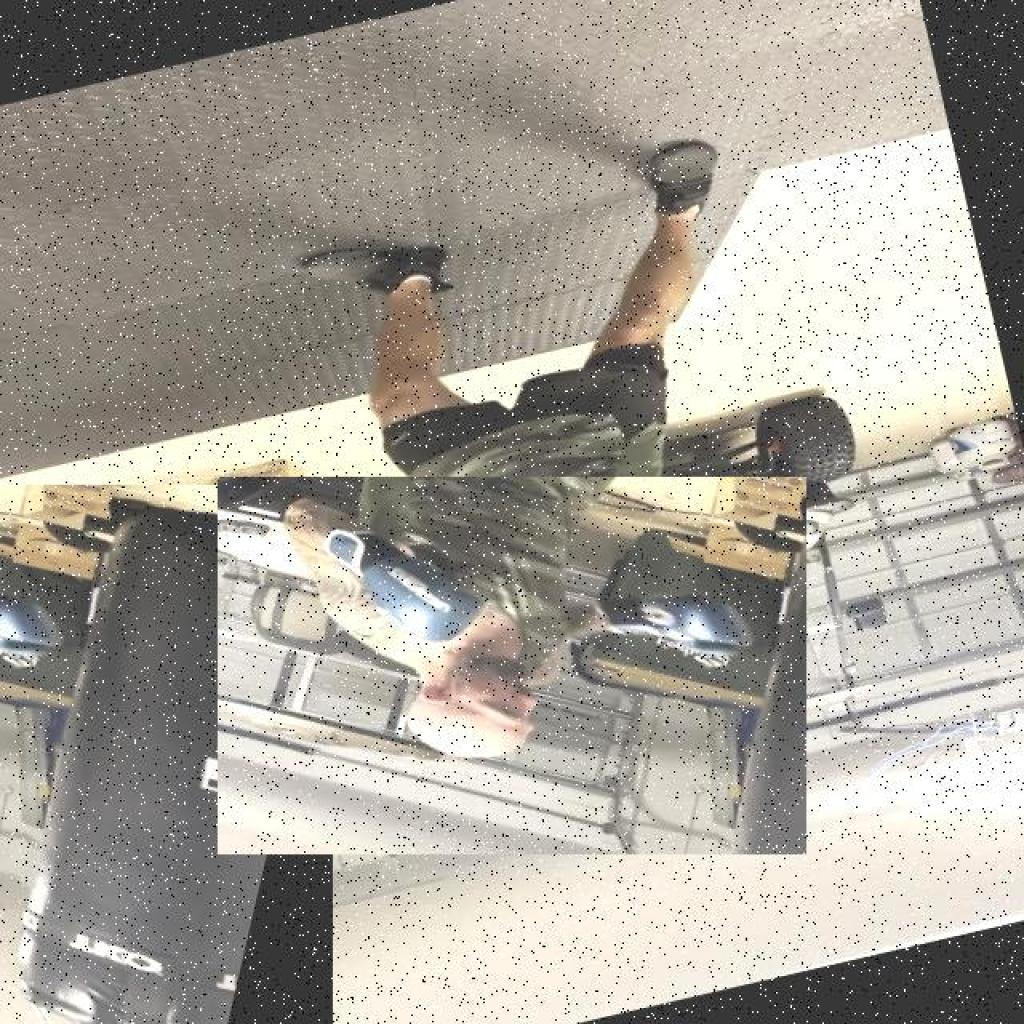bag: (0, 485, 333, 1024)
hook: (218, 477, 806, 855)
